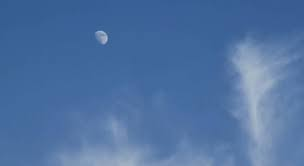Cirrus: (44, 86, 219, 165), (224, 23, 299, 158)
